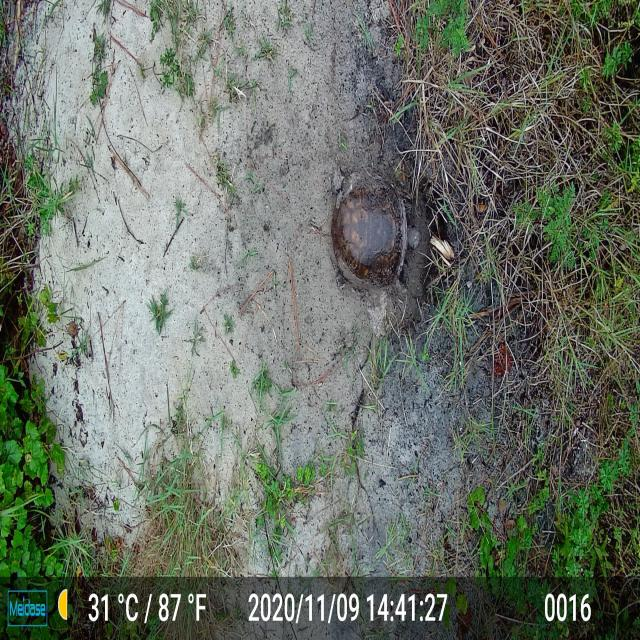tortoise: (327, 161, 424, 304)
